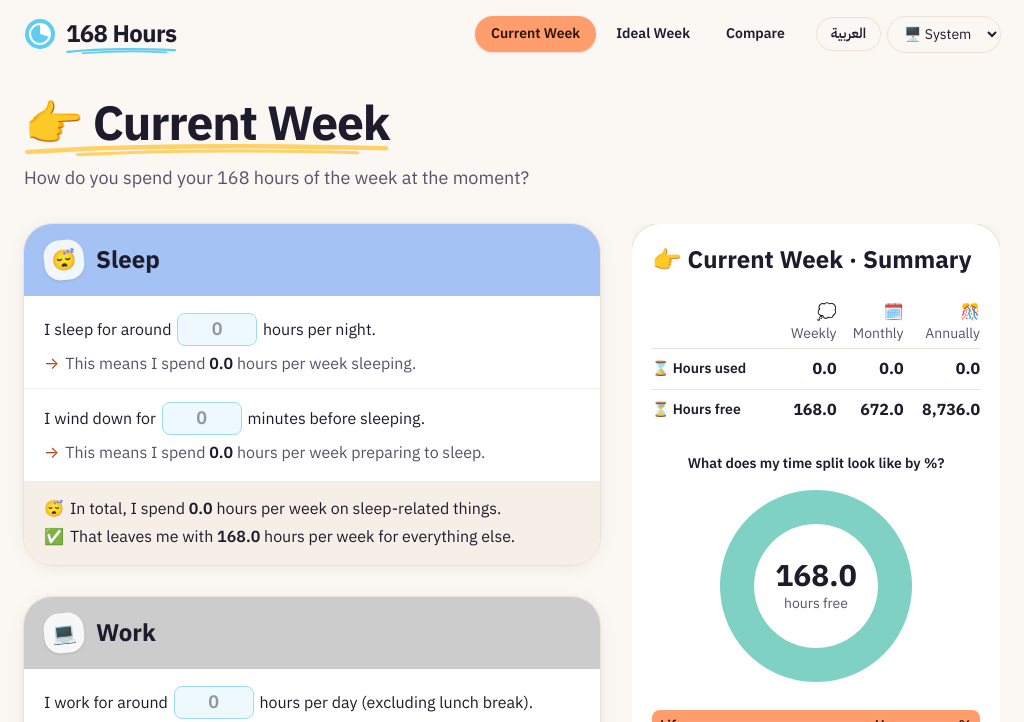
summary panel › warns when more than 168 hours are allocated
In the field labelled "I sleep for around hours per night.": (217, 329) [177,313,257,346], type "24"
(page scrolled)
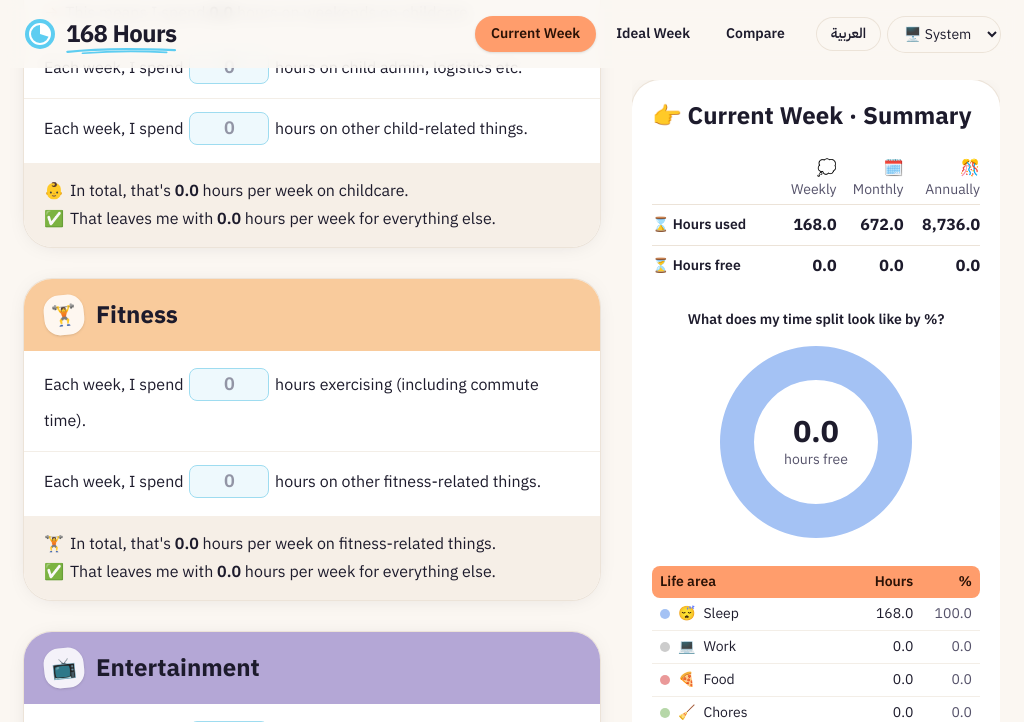
In the field labelled "hours exercising": (229, 384) [189,368,269,400], type "10"
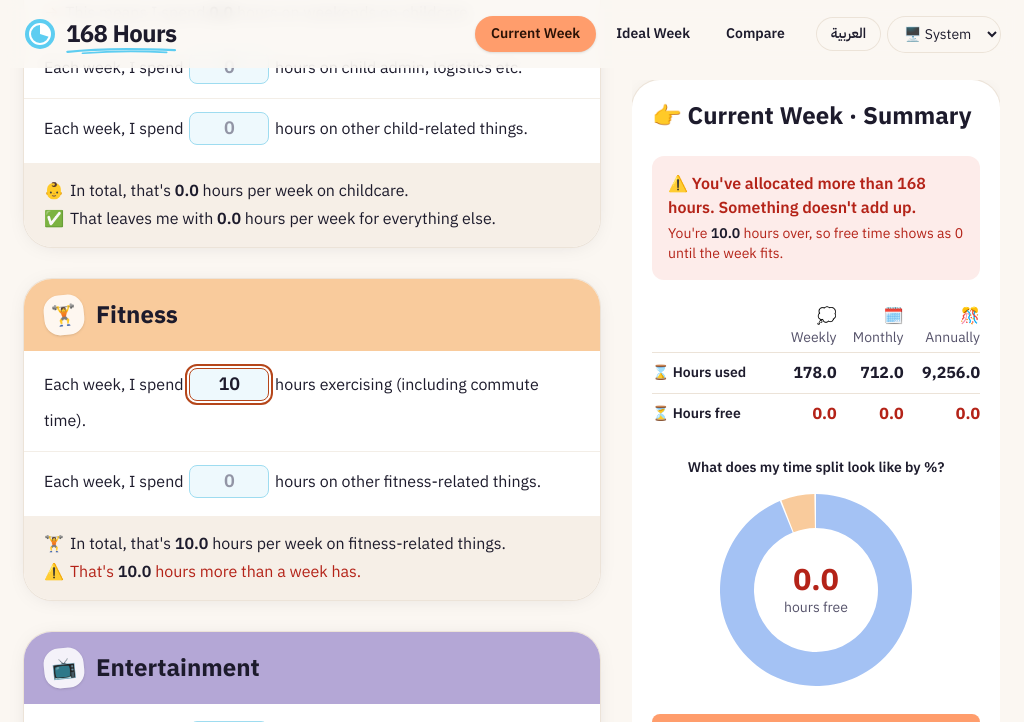
expect the message shows "You've allocated more than 168 hours": met, box [668,172,926,220]
expect the message shows "10.0": met, box [711,223,740,244]
